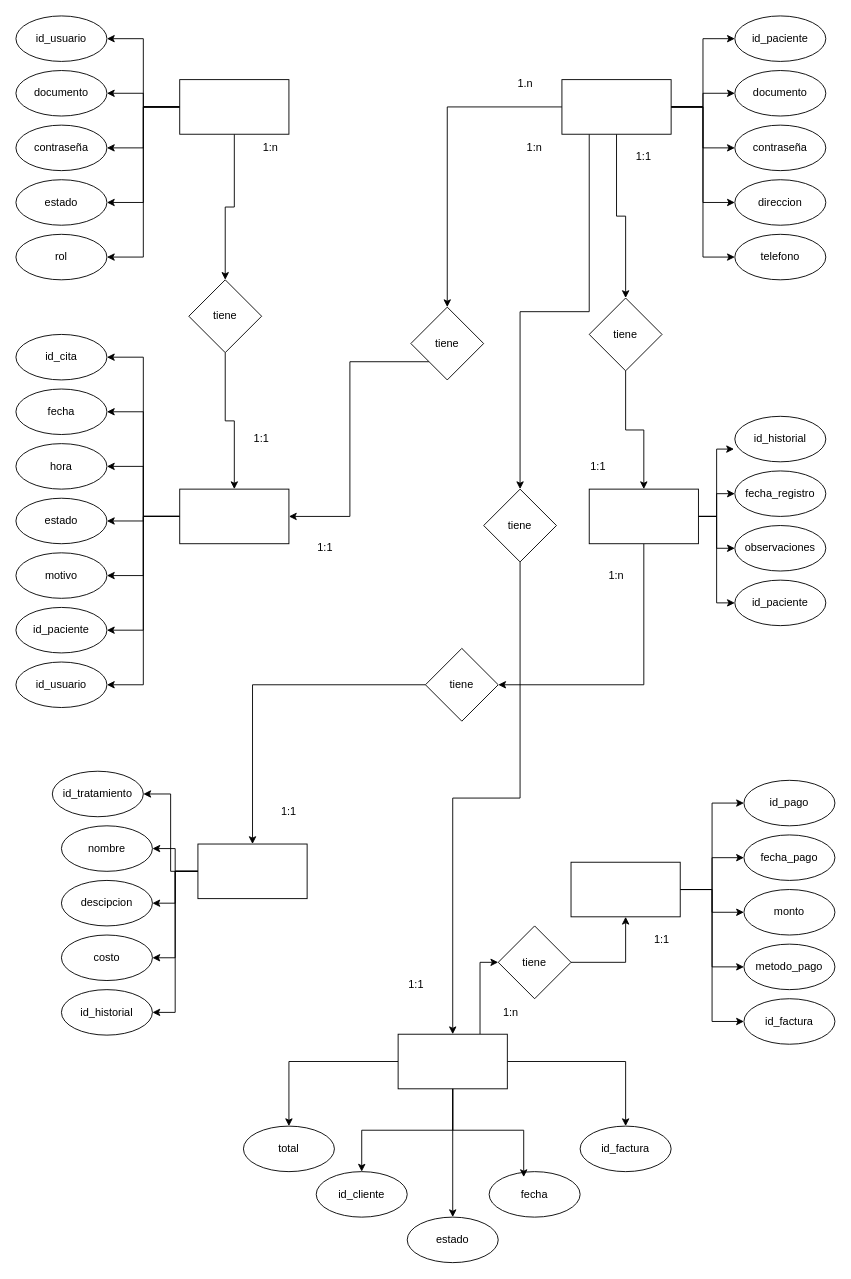
Some shapes in this 851 by 1279 pixel diagram are drawn without their labels. Here are the shapes that lost their labels. From the top down, the centre of each, then its label:
the point at 234,106: Usuario
the point at 616,106: Paciente
the point at 234,516: Cita
the point at 643,516: Historial_clinico
the point at 252,871: Tratamiento
the point at 625,889: Pago
the point at 452,1061: Factura
